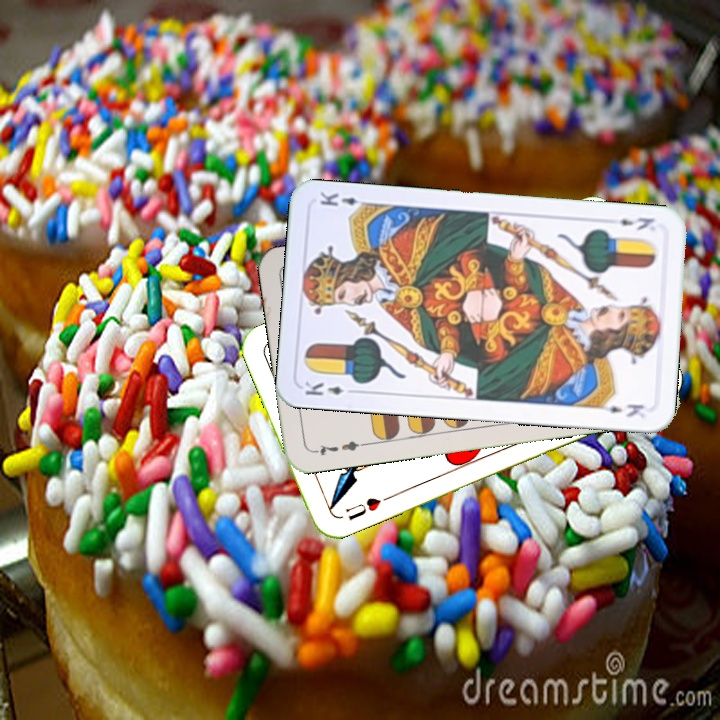E7: (308, 436, 368, 458)
EK: (301, 377, 359, 399), (616, 213, 657, 233)
HU: (341, 493, 383, 523)
